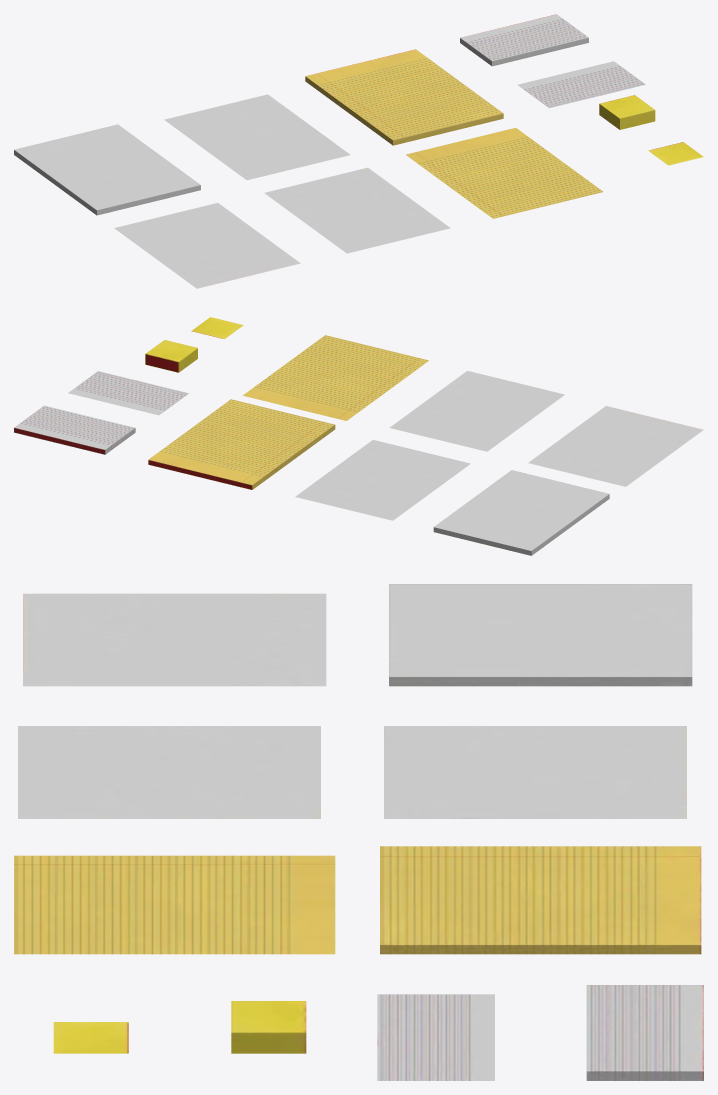
The model's file is office_notepads.glb.
The picture shows the model from 3 angles, top to bottom: view 1: azimuth 30°, elevation 25°; view 2: azimuth 150°, elevation 25°; view 3: azimuth 270°, elevation 25°; orthographic projection. The views are drawn at different scales.
Visible parts, largest first — view 1: office_notepads_yellow_pad, office_notepads_yellow_sheet, office_notepads_a4_stack, office_notepads_a4_a, office_notepads_a4_b, office_notepads_a4_c, office_notepads_note_stack, office_notepads_note_sheet, office_notepads_sticky_stack, office_notepads_sticky_sheet; view 2: office_notepads_yellow_pad, office_notepads_yellow_sheet, office_notepads_a4_stack, office_notepads_a4_b, office_notepads_a4_c, office_notepads_a4_a, office_notepads_note_stack, office_notepads_note_sheet, office_notepads_sticky_stack, office_notepads_sticky_sheet; view 3: office_notepads_yellow_pad, office_notepads_yellow_sheet, office_notepads_a4_stack, office_notepads_a4_a, office_notepads_a4_b, office_notepads_a4_c, office_notepads_note_stack, office_notepads_note_sheet, office_notepads_sticky_stack, office_notepads_sticky_sheet.
Boxes of the visible parts, x1=… form: office_notepads_yellow_pad: x1=305, y1=49, x2=503, y2=145; office_notepads_yellow_sheet: x1=406, y1=127, x2=603, y2=218; office_notepads_a4_stack: x1=14, y1=124, x2=200, y2=215; office_notepads_a4_a: x1=114, y1=203, x2=300, y2=288; office_notepads_a4_b: x1=164, y1=94, x2=350, y2=180; office_notepads_a4_c: x1=264, y1=167, x2=450, y2=253; office_notepads_note_stack: x1=460, y1=14, x2=588, y2=66; office_notepads_note_sheet: x1=517, y1=61, x2=645, y2=108; office_notepads_sticky_stack: x1=599, y1=95, x2=655, y2=129; office_notepads_sticky_sheet: x1=648, y1=142, x2=703, y2=165; office_notepads_yellow_pad: x1=148, y1=399, x2=335, y2=489; office_notepads_yellow_sheet: x1=243, y1=335, x2=428, y2=420; office_notepads_a4_stack: x1=433, y1=470, x2=609, y2=555; office_notepads_a4_b: x1=295, y1=440, x2=470, y2=520; office_notepads_a4_c: x1=389, y1=371, x2=564, y2=451; office_notepads_a4_a: x1=528, y1=406, x2=703, y2=486; office_notepads_note_stack: x1=14, y1=405, x2=135, y2=454; office_notepads_note_sheet: x1=68, y1=371, x2=188, y2=415; office_notepads_sticky_stack: x1=145, y1=340, x2=197, y2=372; office_notepads_sticky_sheet: x1=191, y1=317, x2=243, y2=339; office_notepads_yellow_pad: x1=380, y1=846, x2=701, y2=954; office_notepads_yellow_sheet: x1=14, y1=855, x2=335, y2=954; office_notepads_a4_stack: x1=389, y1=584, x2=692, y2=686; office_notepads_a4_a: x1=23, y1=593, x2=326, y2=686; office_notepads_a4_b: x1=384, y1=726, x2=686, y2=818; office_notepads_a4_c: x1=18, y1=726, x2=320, y2=818; office_notepads_note_stack: x1=586, y1=985, x2=703, y2=1080; office_notepads_note_sheet: x1=377, y1=994, x2=494, y2=1080; office_notepads_sticky_stack: x1=231, y1=1001, x2=306, y2=1053; office_notepads_sticky_sheet: x1=53, y1=1022, x2=128, y2=1053.
Size of the model in its own units: 1.1 by 0.022 by 0.6598.
1 material, 1 textured.
